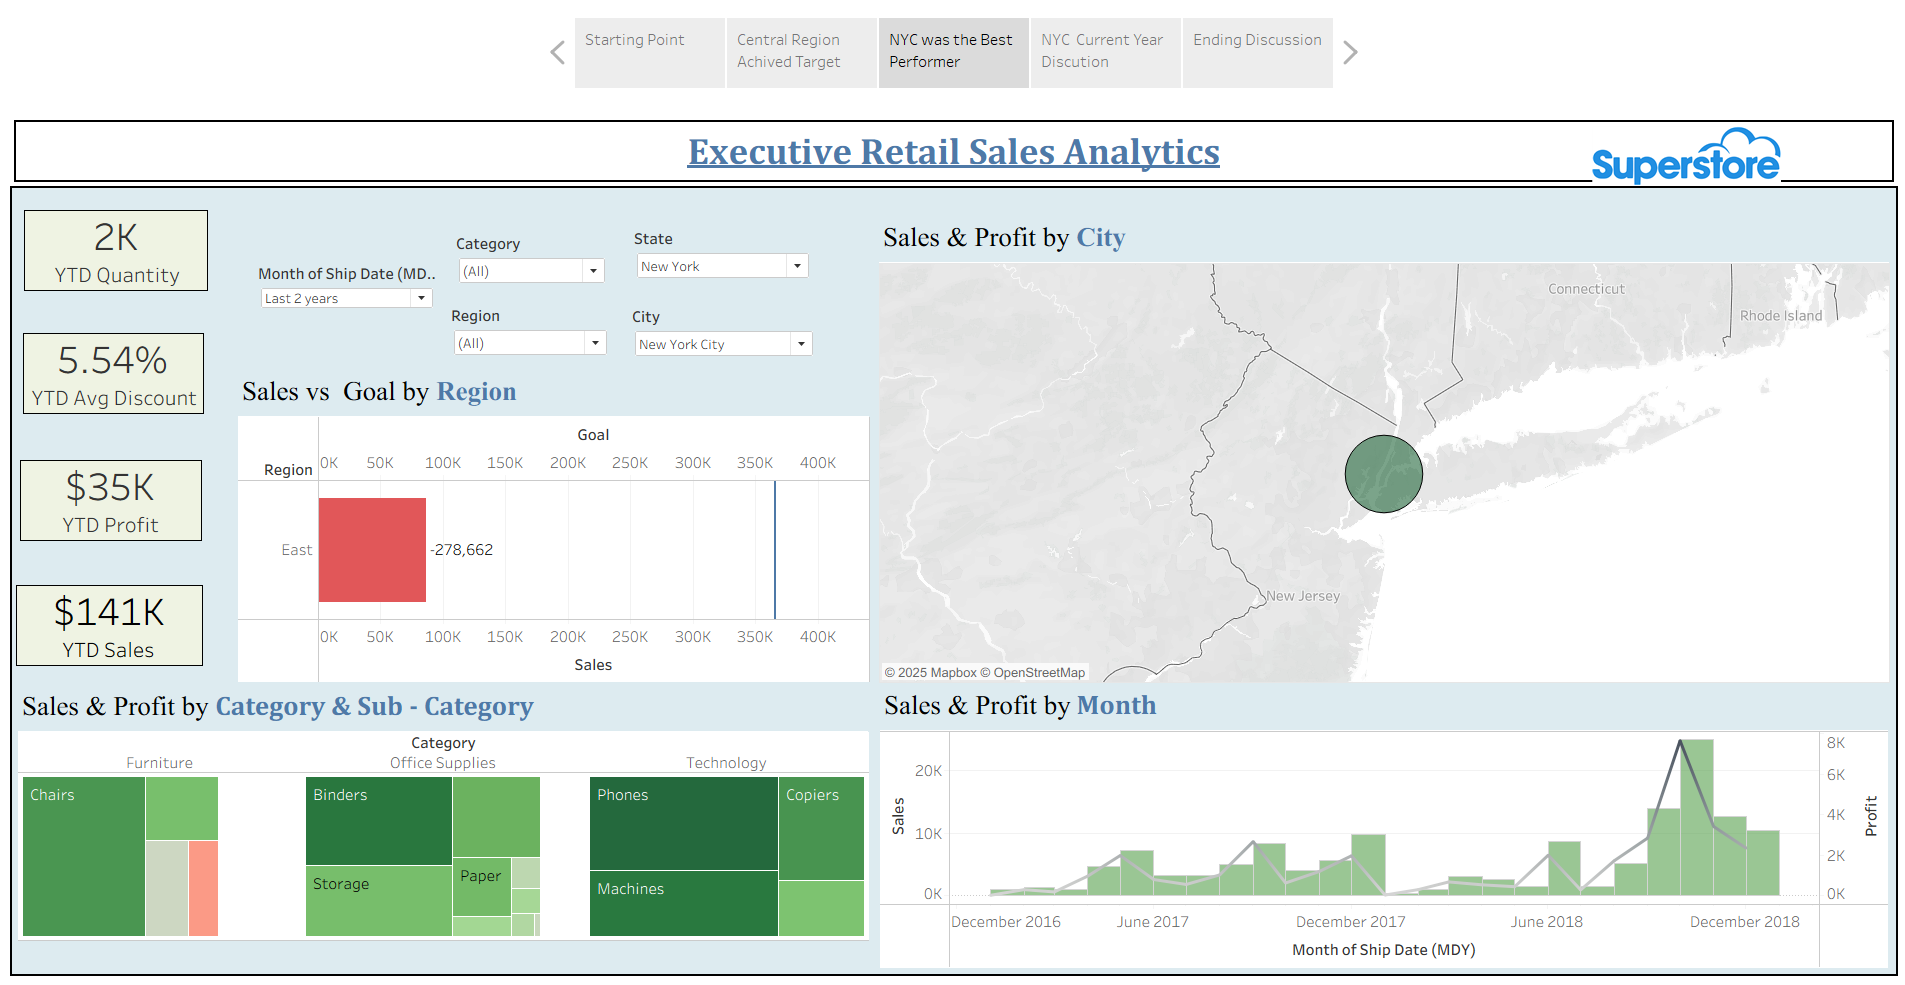

What the dashboard file says about the page in this screenshot:
{"tool":"tableau","page":{"name":"Dashboard 1","canvas":[1000,1000],"units":"permille","ordinal":0},"visuals":[{"type":"title","box":[4.8,10,990.3,87.4]},{"type":"image","param":"Image/download.png","box":[835.2,20,109.8,67.4]},{"type":"worksheet","title":"Sheet 6 (3)","mark":"Automatic","box":[11.5,116.1,112.9,107.4]},{"type":"worksheet","title":"Sheet 3","mark":"Automatic","box":[460.5,126.1,531.1,530.6]},{"type":"filter","title":"Sheet 3","param":"[federated.0hnb2jl033wxgv19xz3st11ub5jo].[none:State:nk]","box":[331.9,137.3,93.5,72.4]},{"type":"filter","title":"Sheet 4","param":"[federated.0hnb2jl033wxgv19xz3st11ub5jo].[none:Category:nk]","box":[238.4,142.3,79.7,76.2]},{"type":"filter","title":"Sheet 5","param":"[federated.0hnb2jl033wxgv19xz3st11ub5jo].[tmn:Ship Date (MDY):qk]","box":[134.6,177.3,93.5,72.4]},{"type":"filter","title":"Sheet 2","param":"[federated.0hnb2jl033wxgv19xz3st11ub5jo].[none:Region:nk]","box":[236,224.7,83.3,73.7]},{"type":"filter","title":"Sheet 3","param":"[federated.0hnb2jl033wxgv19xz3st11ub5jo].[none:City:nk]","box":[330.7,226,96.6,82.4]},{"type":"worksheet","title":"Sheet 6 (4)","mark":"Automatic","box":[10.9,257.2,109.8,101.1]},{"type":"worksheet","title":"Sheet 2","mark":"Automatic","rows":["Region"],"cols":["Sales","Goal"],"box":[123.7,300.9,331.9,354.6]},{"type":"worksheet","title":"Sheet 6 (2)","mark":"Automatic","box":[9.7,402,111,103.6]},{"type":"worksheet","title":"Sheet 6","mark":"Automatic","box":[7.2,544.3,113.5,112.4]},{"type":"worksheet","title":"Sheet 5","mark":"Automatic","rows":["Sales","Profit"],"cols":["Ship Date (MDY)"],"box":[461.1,657.9,529.9,324.6]},{"type":"worksheet","title":"Sheet 4","mark":"Automatic","cols":["Category"],"box":[8.4,659.2,447.2,320.9]}]}

Visuals, with their boxes on the dashboard's canvas, which has no fixed pixel size, in thousandths of its width and height (x1, y1, x2, y2). These are canvas units, not pixel positions in the 1905x985 screenshot, which may show the page scaled, cropped or inside an application window:
title: (left=5, top=10, right=995, bottom=97)
image: (left=835, top=20, right=945, bottom=87)
"Sheet 6 (3)" worksheet: (left=12, top=116, right=124, bottom=224)
"Sheet 3" worksheet: (left=460, top=126, right=992, bottom=657)
"Sheet 3" filter: (left=332, top=137, right=425, bottom=210)
"Sheet 4" filter: (left=238, top=142, right=318, bottom=218)
"Sheet 5" filter: (left=135, top=177, right=228, bottom=250)
"Sheet 2" filter: (left=236, top=225, right=319, bottom=298)
"Sheet 3" filter: (left=331, top=226, right=427, bottom=308)
"Sheet 6 (4)" worksheet: (left=11, top=257, right=121, bottom=358)
"Sheet 2" worksheet: (left=124, top=301, right=456, bottom=656)
"Sheet 6 (2)" worksheet: (left=10, top=402, right=121, bottom=506)
"Sheet 6" worksheet: (left=7, top=544, right=121, bottom=657)
"Sheet 5" worksheet: (left=461, top=658, right=991, bottom=982)
"Sheet 4" worksheet: (left=8, top=659, right=456, bottom=980)
